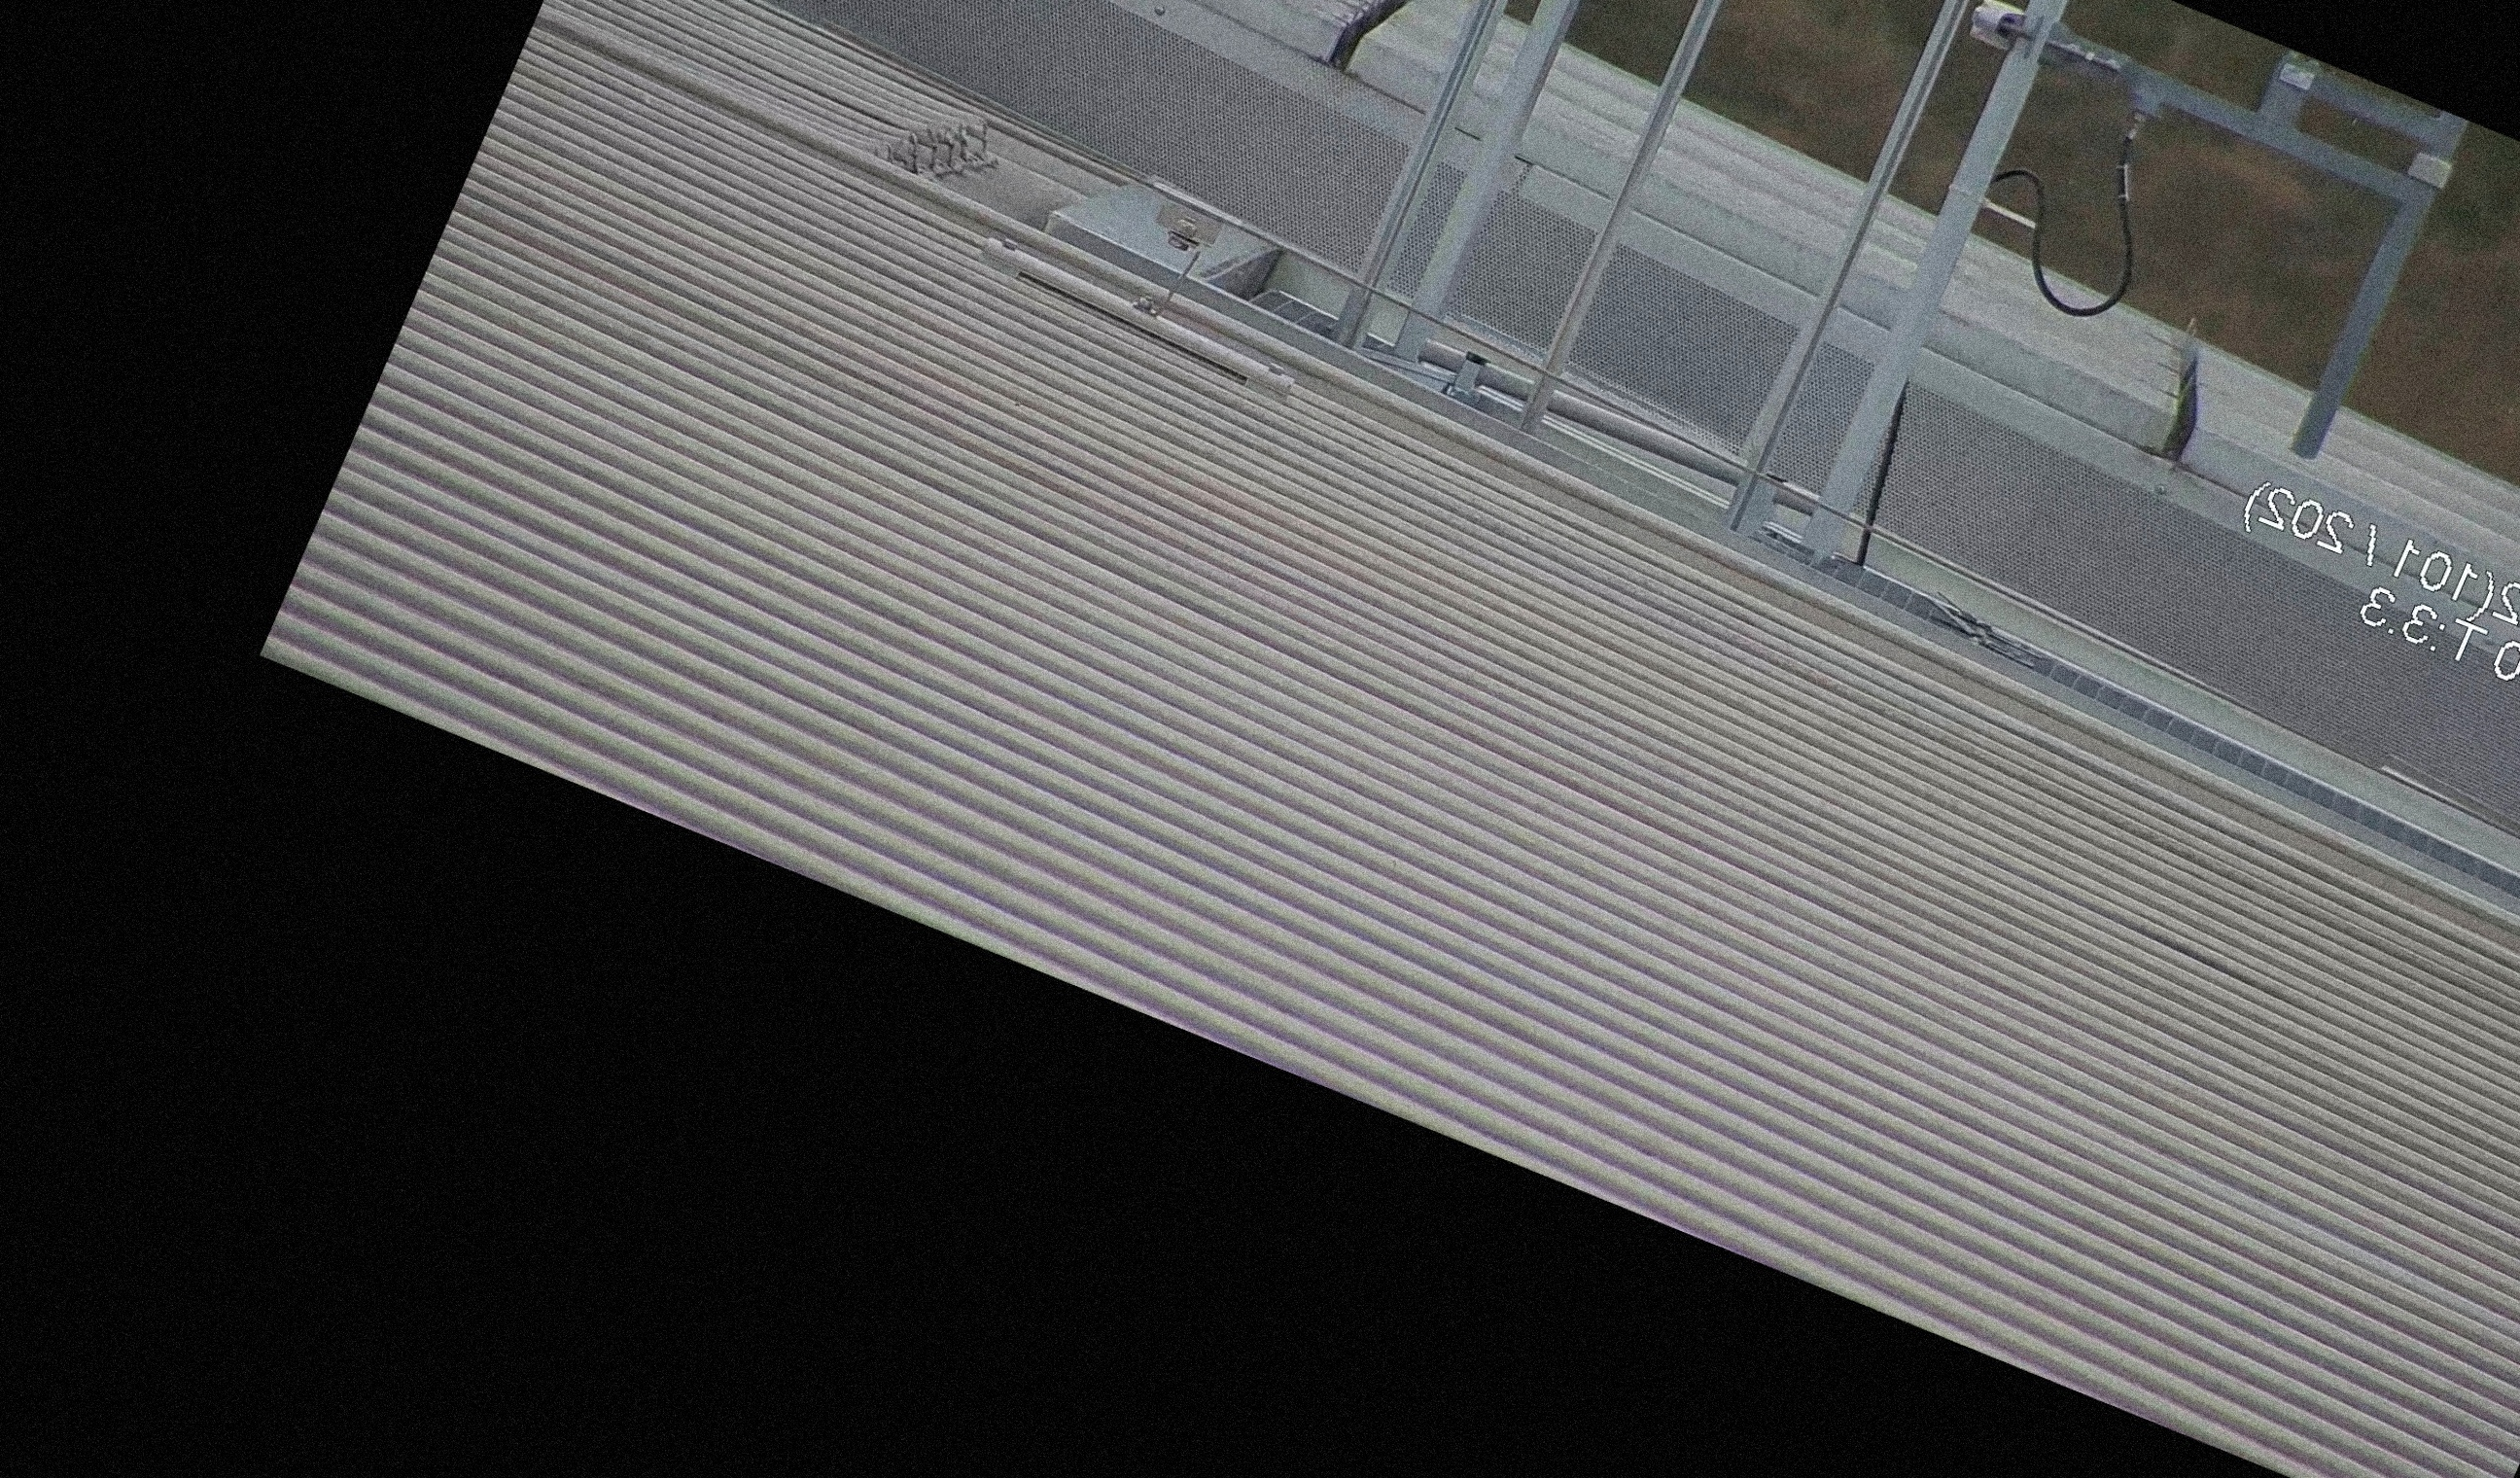Other: (1298, 0, 1449, 90)
